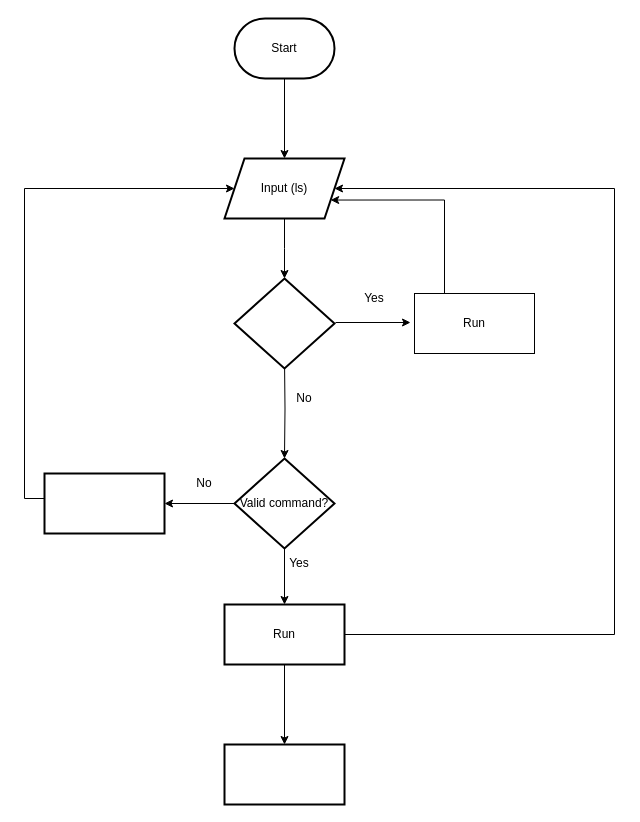
This 640x822 diagram has some shape labels left out. Each missing label, with the centre of its shape:
"Check against built-ins" goes at (x=284, y=323).
"Display Error" goes at (x=104, y=503).
"Display Result" goes at (x=284, y=774).
